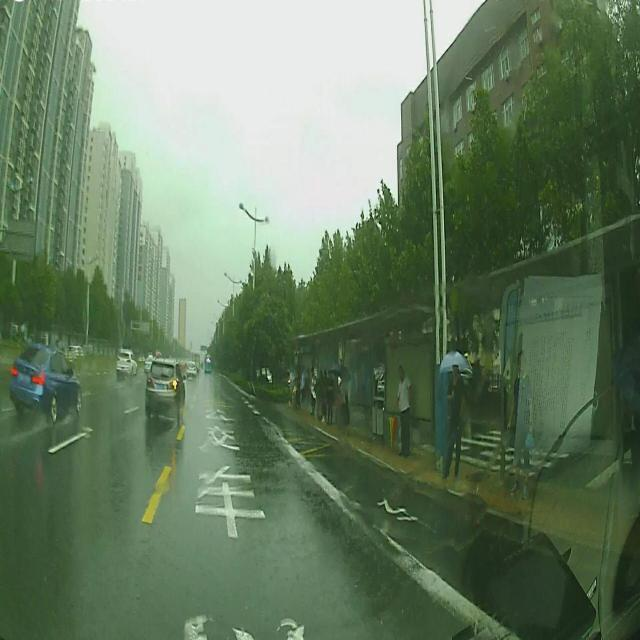car: (8, 343, 82, 418), (146, 356, 184, 421), (116, 345, 138, 378)
